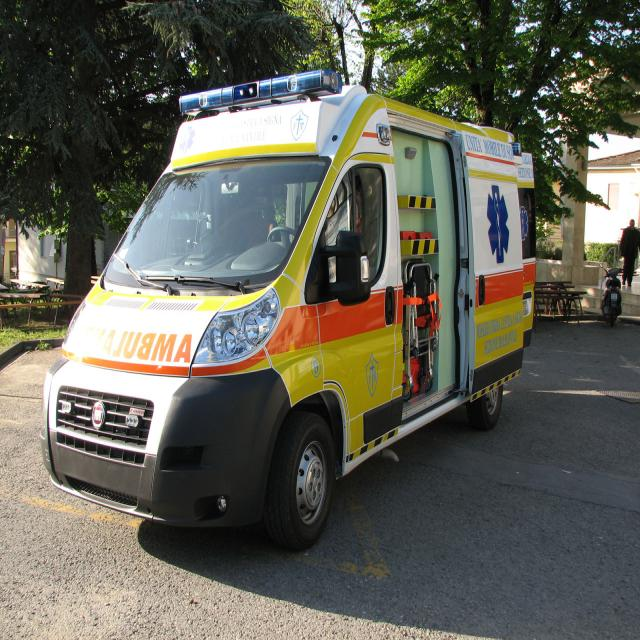emergency-vehicle: (43, 70, 526, 548)
